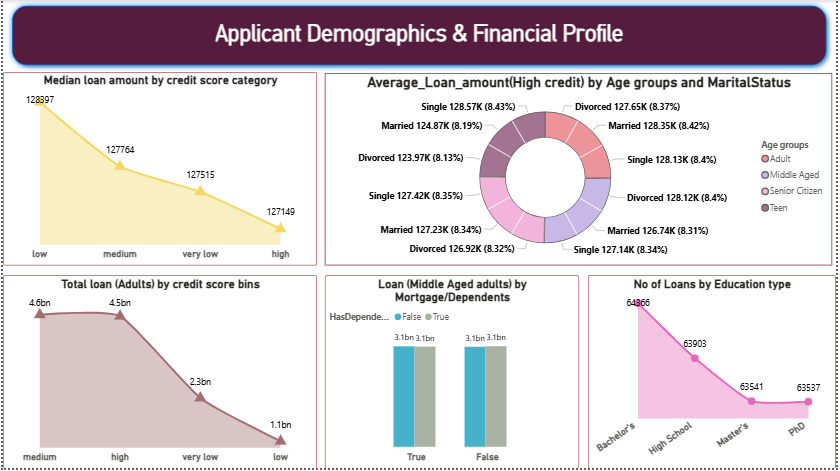

Layout of this report page (visuals, bound fields, positions):
{"tool":"powerbi","page":{"name":"Applicant Demographics & Financial Profile","canvas":[1280,720],"ordinal":1},"visuals":[{"type":"shape","box":[5.1,0,1270.3,109.3],"z":0},{"type":"lineChart","title":"Median loan amount by credit score category","fields":{"Y":["Measures Table 2.Median by Credit Score bins"],"Category":["Loan_default.Credit Score bins"]},"box":[0,111,483.2,297.1],"z":1000},{"type":"donutChart","fields":{"Y":["Measures Table 2.Average_Loan_amount(High credit)"],"Series":["Loan_default.MaritalStatus"],"Category":["Loan_default.Age groups"]},"box":[495.2,112.7,780.3,295.4],"z":2000},{"type":"lineChart","title":"Total loan (Adults) by credit score bins","fields":{"Y":["Measures Table 2.Total Loan(Credit bins)"],"Category":["Loan_default.Credit Score bins"]},"box":[0,423.4,483.2,297.1],"z":3000},{"type":"clusteredColumnChart","title":"Loan (Middle Aged adults) by Mortgage/Dependents","fields":{"Y":["Measures Table 2.Total Loan (Middle Age adults)"],"Category":["Loan_default.HasMortgage"],"Series":["Loan_default.HasDependents"]},"box":[495.2,423.4,391,297.1],"z":4000},{"type":"lineChart","title":"No of Loans by Education type","fields":{"Y":["Measures Table 2.Loans by education type"],"Category":["Loan_default.Education"]},"box":[899.8,423.4,380.8,297.1],"z":5000}]}

Visuals, with their boxes in screenshot pixels (x1, y1, x2, y2), scaled from the page's 1280x720 canvas onto the 840x471 screenshot:
shape: bbox=[3, 0, 837, 72]
"Median loan amount by credit score category" lineChart: bbox=[0, 73, 317, 267]
donutChart - Measures Table 2.Average_Loan_amount(High credit) x Loan_default.MaritalStatus: bbox=[325, 74, 837, 267]
"Total loan (Adults) by credit score bins" lineChart: bbox=[0, 277, 317, 470]
"Loan (Middle Aged adults) by Mortgage/Dependents" clusteredColumnChart: bbox=[325, 277, 582, 470]
"No of Loans by Education type" lineChart: bbox=[590, 277, 839, 470]
